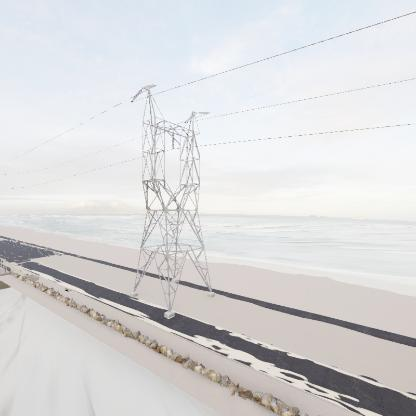tower: (123, 83, 216, 322)
